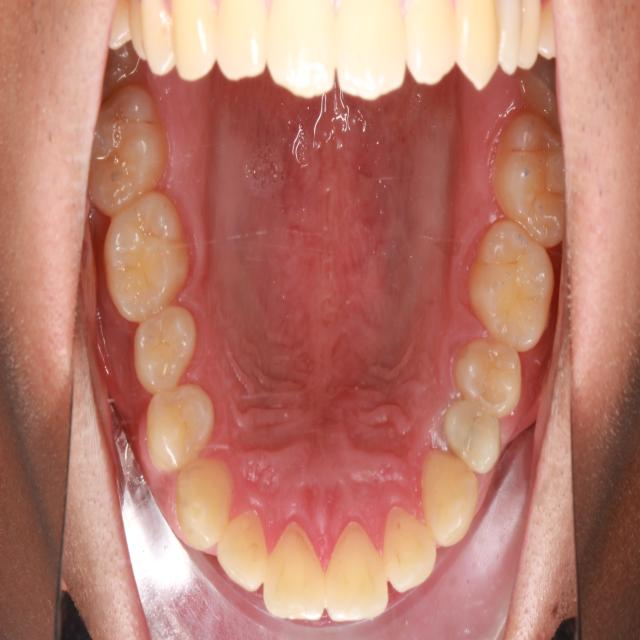tooth: (96, 188, 200, 341), (460, 209, 561, 357), (78, 85, 178, 226), (490, 103, 575, 254), (129, 374, 227, 490), (253, 501, 339, 631), (119, 293, 204, 408), (209, 488, 285, 615), (410, 431, 487, 554), (321, 515, 397, 631), (451, 327, 531, 433), (172, 454, 243, 565), (373, 494, 441, 594), (440, 393, 507, 490), (509, 55, 565, 129), (94, 44, 143, 101)
